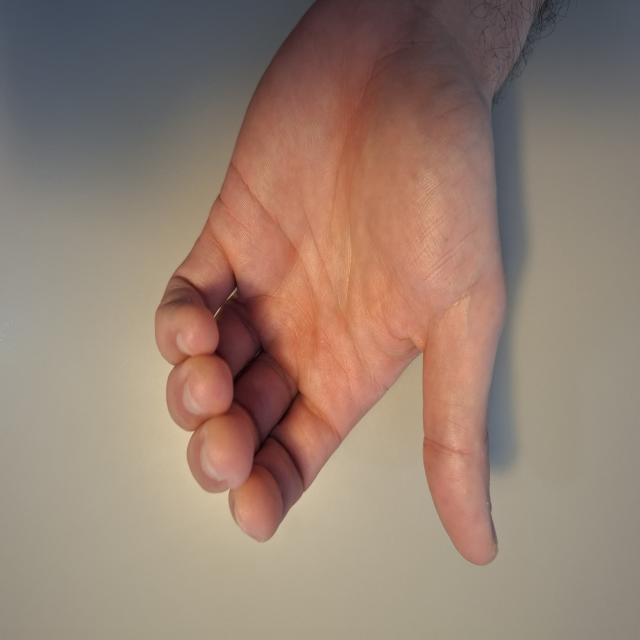glove_off: (152, 0, 510, 569)
